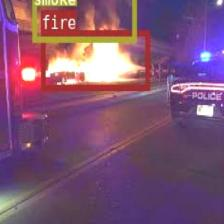fire: (40, 29, 148, 89)
smoke: (31, 0, 136, 40)
